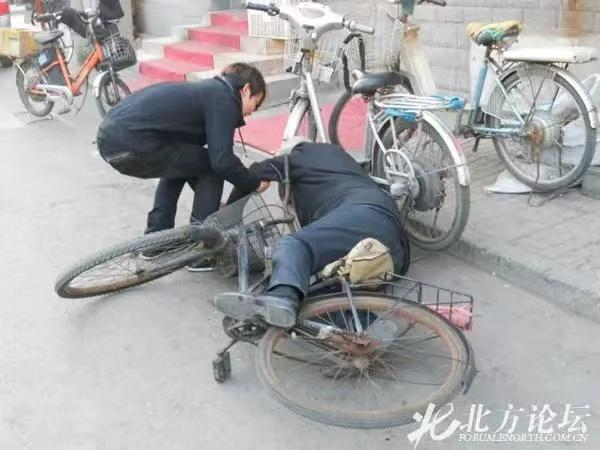bending: (90, 60, 268, 269)
down: (234, 132, 412, 338)
